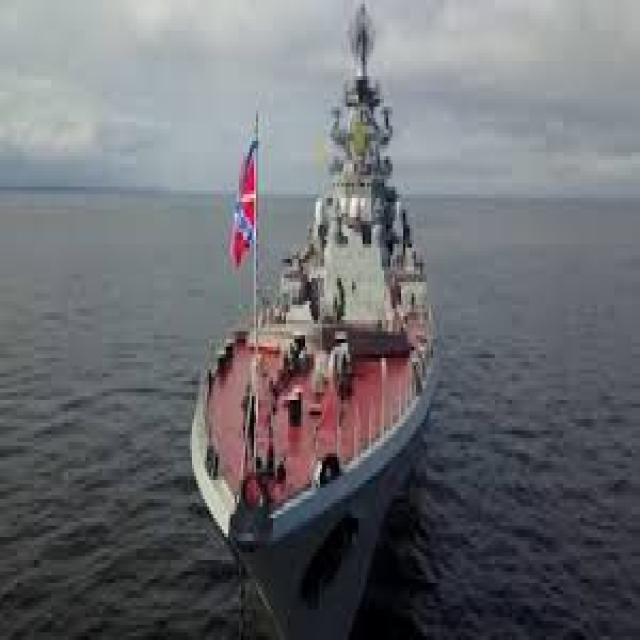navalvessels: (195, 39, 455, 630)
